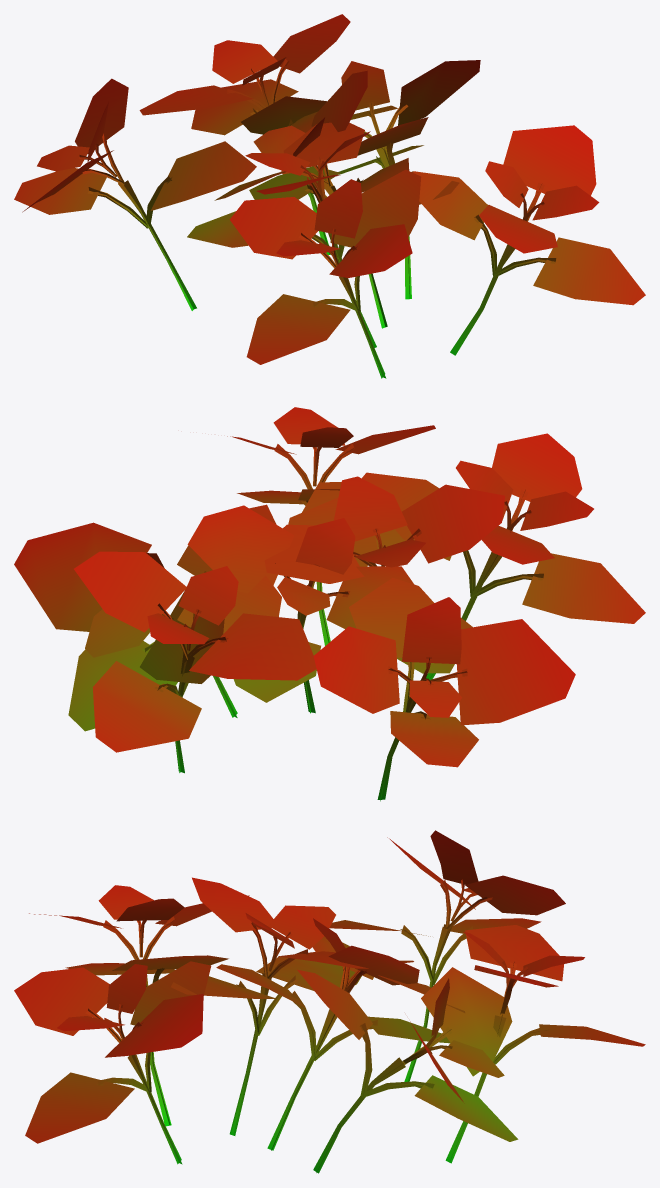
Rendered from Yellow Archangel_LOD2_Var9_wcwmcfvia.fbx.
3 views of the same model, one above another, from view 1: azimuth 30°, elevation 25°; view 2: azimuth 150°, elevation 25°; view 3: azimuth 270°, elevation 25° (orthographic). The views are drawn at different scales.
Visible parts, largest first — view 1: _rkg6_Var9_LOD2; view 2: _rkg6_Var9_LOD2; view 3: _rkg6_Var9_LOD2.
Boxes of the visible parts, x1,y1,x2,y2 form: _rkg6_Var9_LOD2: (14,14,645,378); _rkg6_Var9_LOD2: (14,407,645,801); _rkg6_Var9_LOD2: (14,830,645,1173).
Bounding box in the file's own units: 10.24 × 4.38 × 11.38.
